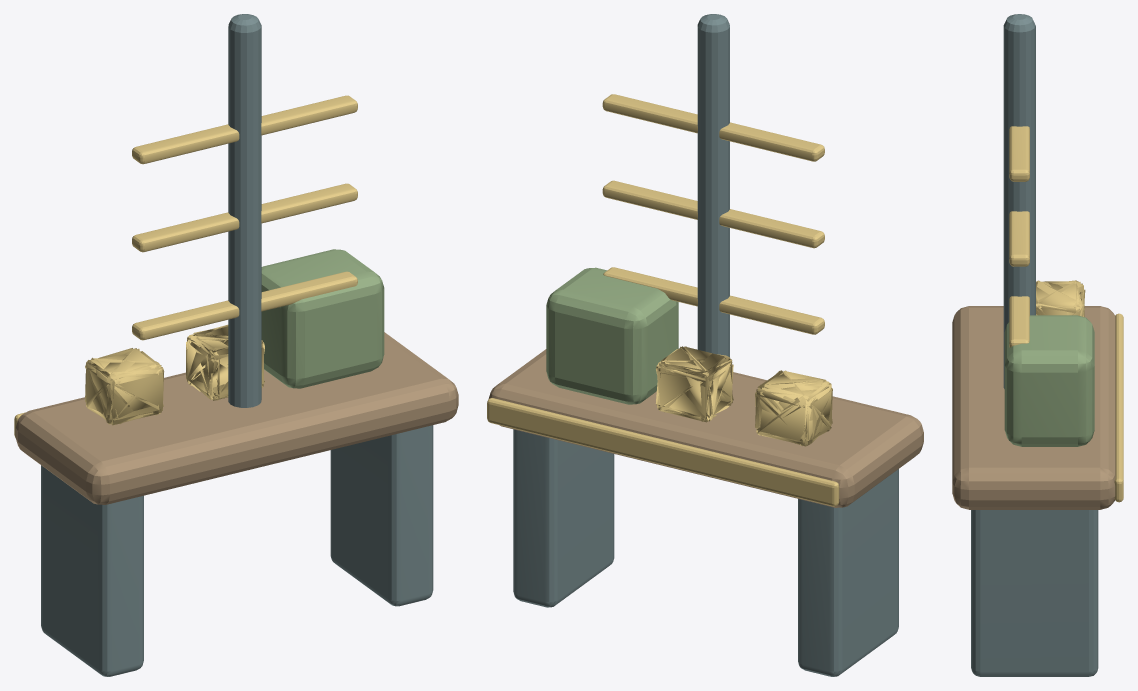
Rendered from station_relay.glb.
3 renders of one model, left to right at view 1: azimuth 30°, elevation 25°; view 2: azimuth 150°, elevation 25°; view 3: azimuth 270°, elevation 25°, orthographic. The views are drawn at different scales.
Parts seen in each view (by area): view 1: Surface_WorldMetal, Surface_WorldWood, Surface_WorldOlive, Surface_WorldBrass, SupplyToken0, SupplyToken1; view 2: Surface_WorldMetal, Surface_WorldBrass, Surface_WorldWood, Surface_WorldOlive, SupplyToken0, SupplyToken1; view 3: Surface_WorldMetal, Surface_WorldWood, Surface_WorldOlive, Surface_WorldBrass, SupplyToken0.
Boxes of the visible parts, x1=… form: Surface_WorldMetal: x1=41, y1=14, x2=433, y2=676; Surface_WorldWood: x1=15, y1=332, x2=458, y2=504; Surface_WorldOlive: x1=261, y1=249, x2=384, y2=388; Surface_WorldBrass: x1=14, y1=95, x2=357, y2=437; SupplyToken0: x1=85, y1=348, x2=164, y2=425; SupplyToken1: x1=186, y1=324, x2=264, y2=400; Surface_WorldMetal: x1=513, y1=14, x2=898, y2=676; Surface_WorldBrass: x1=487, y1=94, x2=839, y2=506; Surface_WorldWood: x1=488, y1=349, x2=923, y2=507; Surface_WorldOlive: x1=546, y1=267, x2=678, y2=404; SupplyToken0: x1=755, y1=370, x2=832, y2=446; SupplyToken1: x1=655, y1=346, x2=733, y2=422; Surface_WorldMetal: x1=971, y1=14, x2=1098, y2=676; Surface_WorldWood: x1=952, y1=306, x2=1115, y2=509; Surface_WorldOlive: x1=1004, y1=315, x2=1094, y2=446; Surface_WorldBrass: x1=1009, y1=126, x2=1123, y2=502; SupplyToken0: x1=1036, y1=280, x2=1085, y2=316.
Bounding box in the file's own units: 1.1 × 1.72 × 0.4575.
